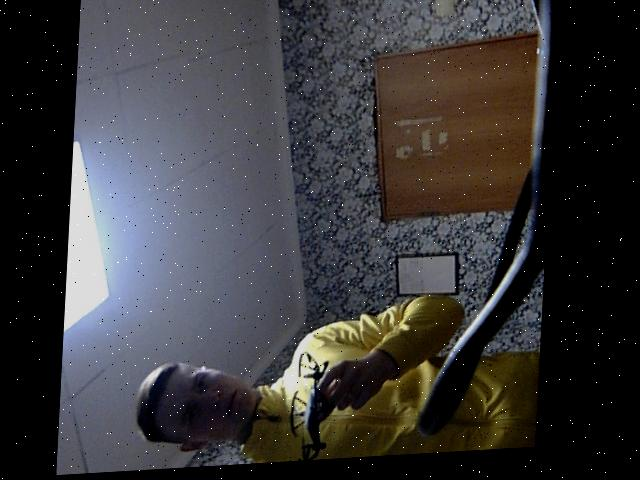drone: (275, 351, 349, 466)
